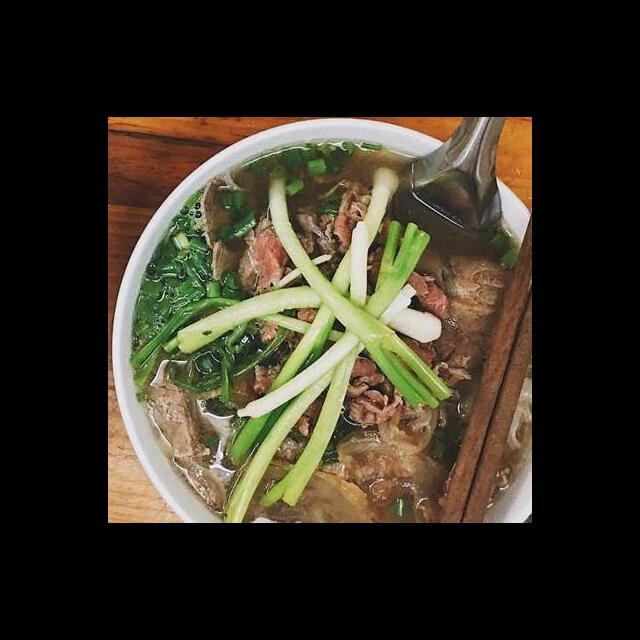thit bo: (397, 247, 508, 393), (146, 376, 228, 508), (336, 354, 433, 438), (291, 177, 371, 277), (234, 205, 294, 300)
